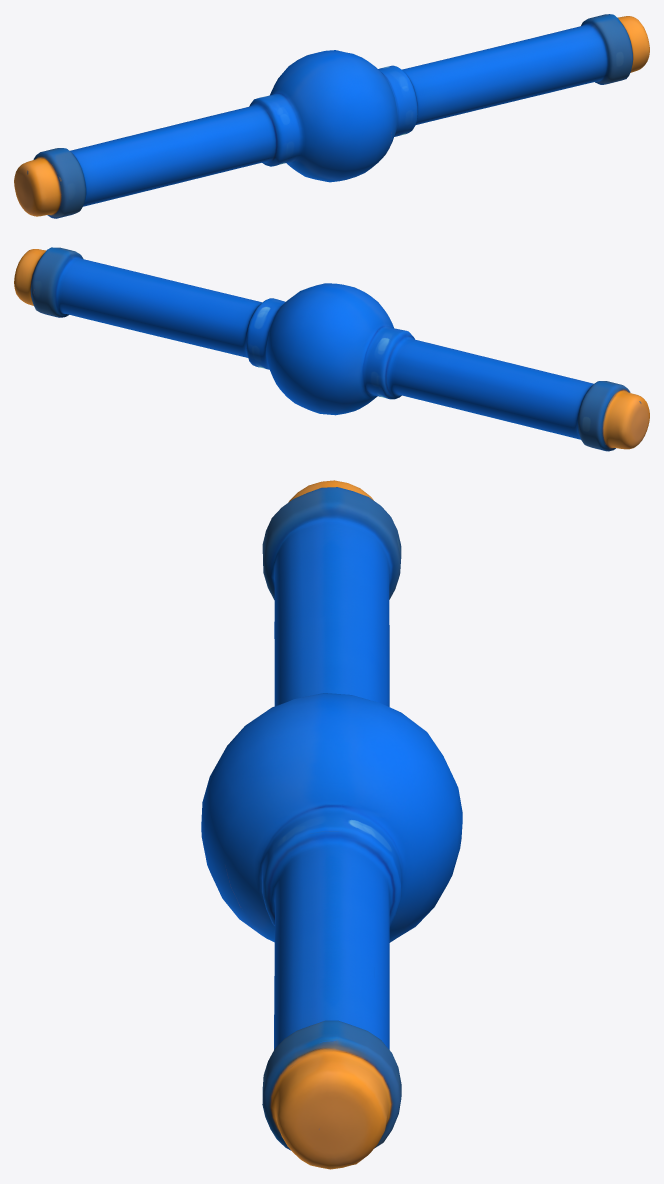
Rendered from Circular Rotator - A_texture.fbx.
The picture shows the model from 3 angles, top to bottom: view 1: azimuth 30°, elevation 25°; view 2: azimuth 150°, elevation 25°; view 3: azimuth 270°, elevation 25°; orthographic projection. The views are drawn at different scales.
Visible parts, largest first — view 1: Mesh0; view 2: Mesh0; view 3: Mesh0.
Part boxes in pixels (x1,y1,x2,y2): Mesh0: (14, 14, 649, 218); Mesh0: (14, 247, 649, 451); Mesh0: (201, 480, 462, 1169).
Size of the model in its own units: 192 by 35.24 by 35.2.
1 material, 1 textured.
